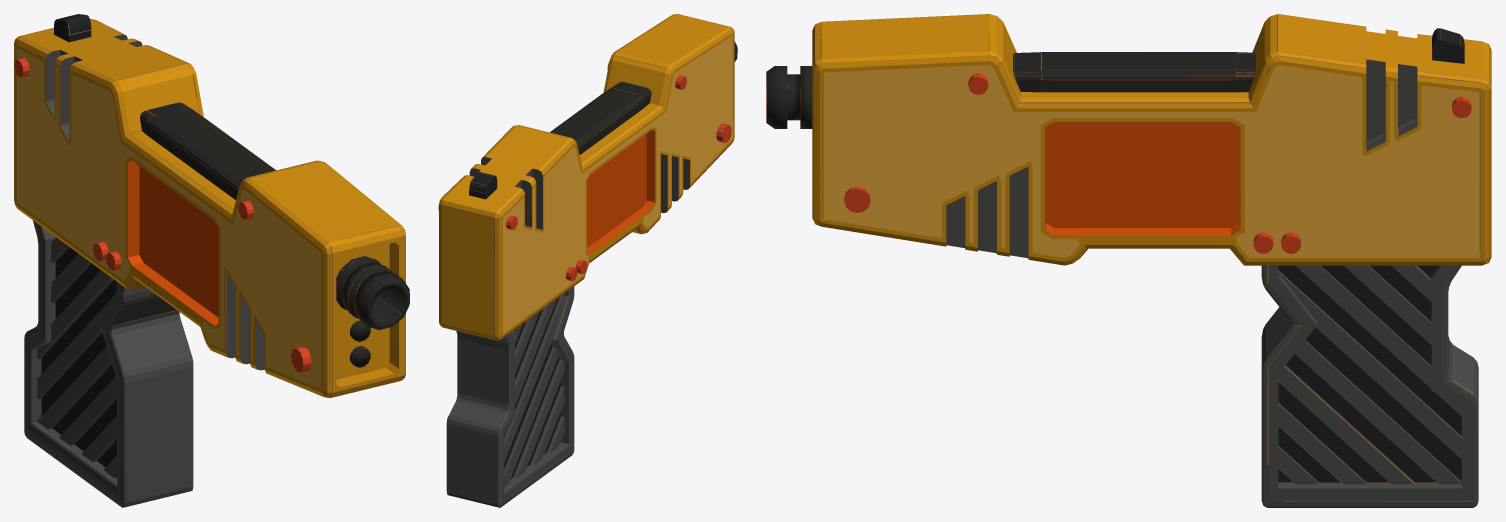
Rendered from Gun02.glb.
3 renders of one model, left to right at view 1: azimuth 30°, elevation 25°; view 2: azimuth 150°, elevation 25°; view 3: azimuth 270°, elevation 25°, orthographic. The views are drawn at different scales.
Visible parts, largest first — view 1: Ridges in handle.001; view 2: Ridges in handle.001; view 3: Ridges in handle.001.
Part boxes in pixels (x1,y1,x2,y2): Ridges in handle.001: [14, 14, 409, 507]; Ridges in handle.001: [438, 14, 737, 507]; Ridges in handle.001: [766, 14, 1491, 507].
Bounding box in the file's own units: 0.7988 × 3.3 × 4.75.
7 materials, 7 textured.
